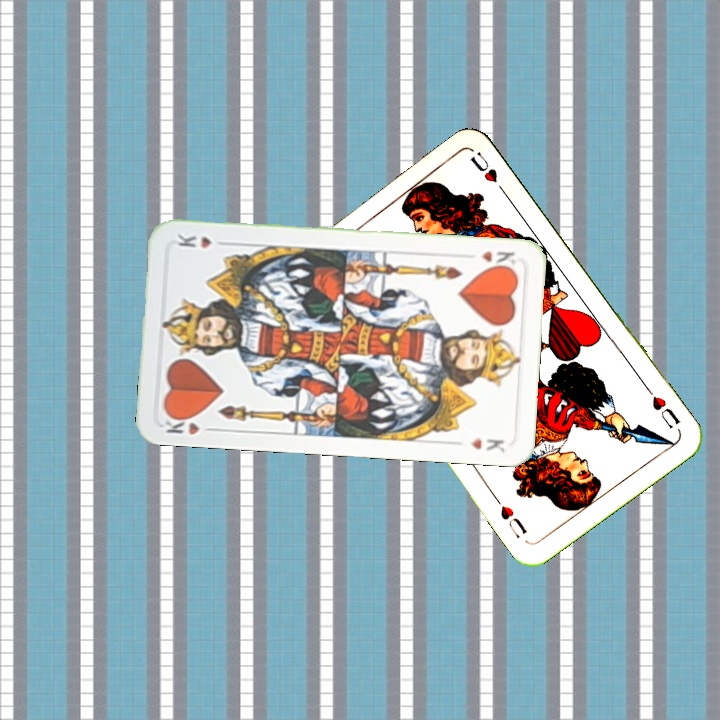HK: (161, 410, 219, 438), (477, 246, 518, 272)
HU: (642, 383, 683, 431)
